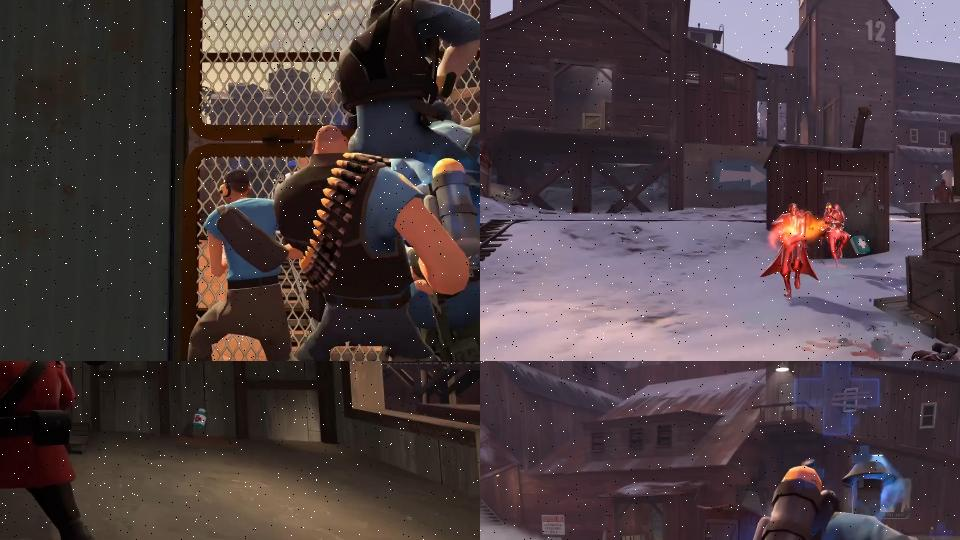Enemy: (272, 123, 471, 361), (166, 168, 324, 361), (335, 0, 480, 204), (0, 361, 122, 540), (760, 203, 815, 299), (819, 202, 851, 268)
